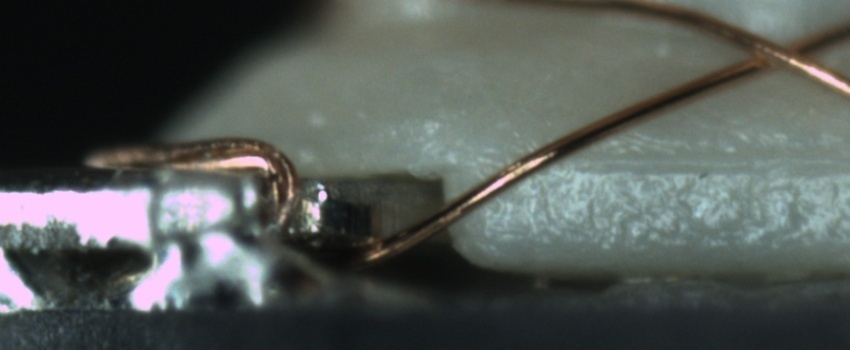CL: (727, 21, 831, 80)
DL: (574, 132, 849, 195)
TE: (78, 132, 305, 235)
